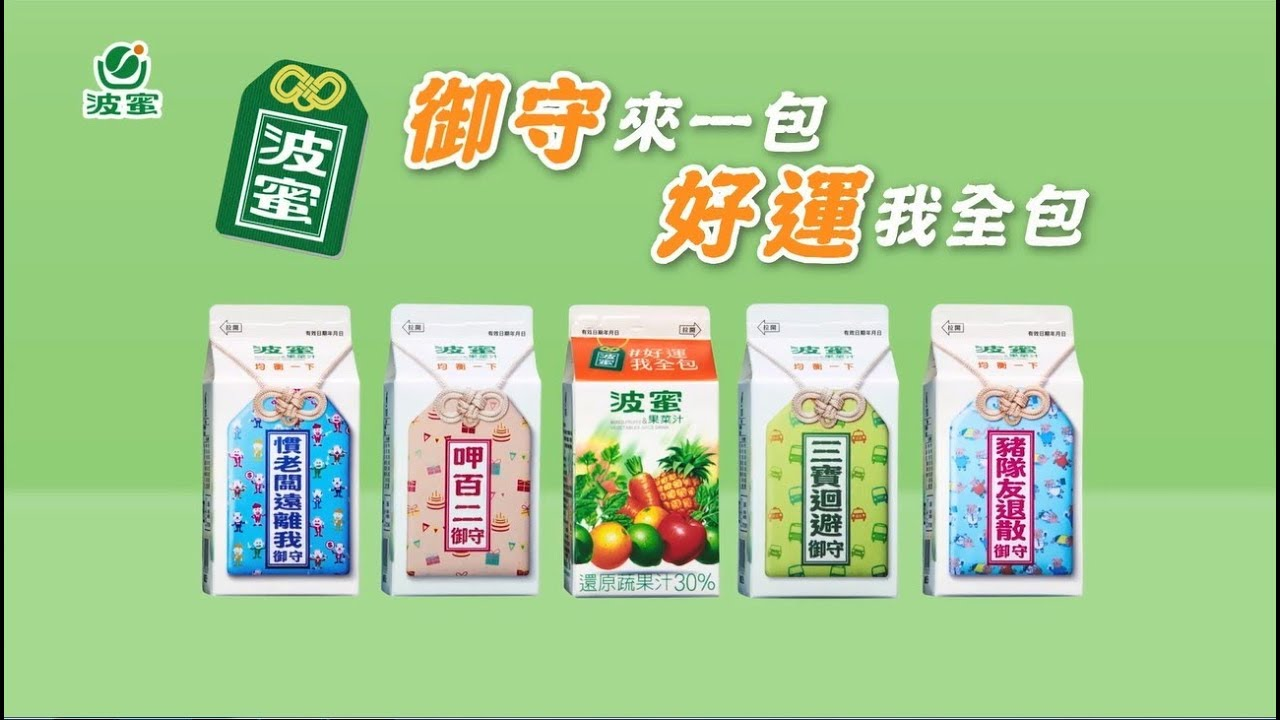vegetables juice: (561, 368, 723, 603)
